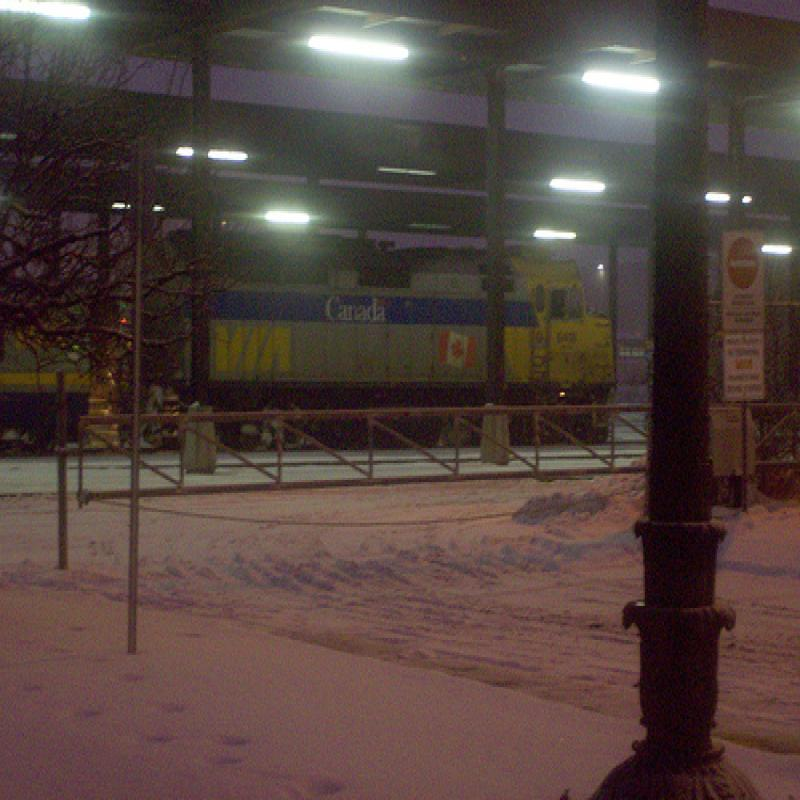train: (1, 240, 614, 457)
